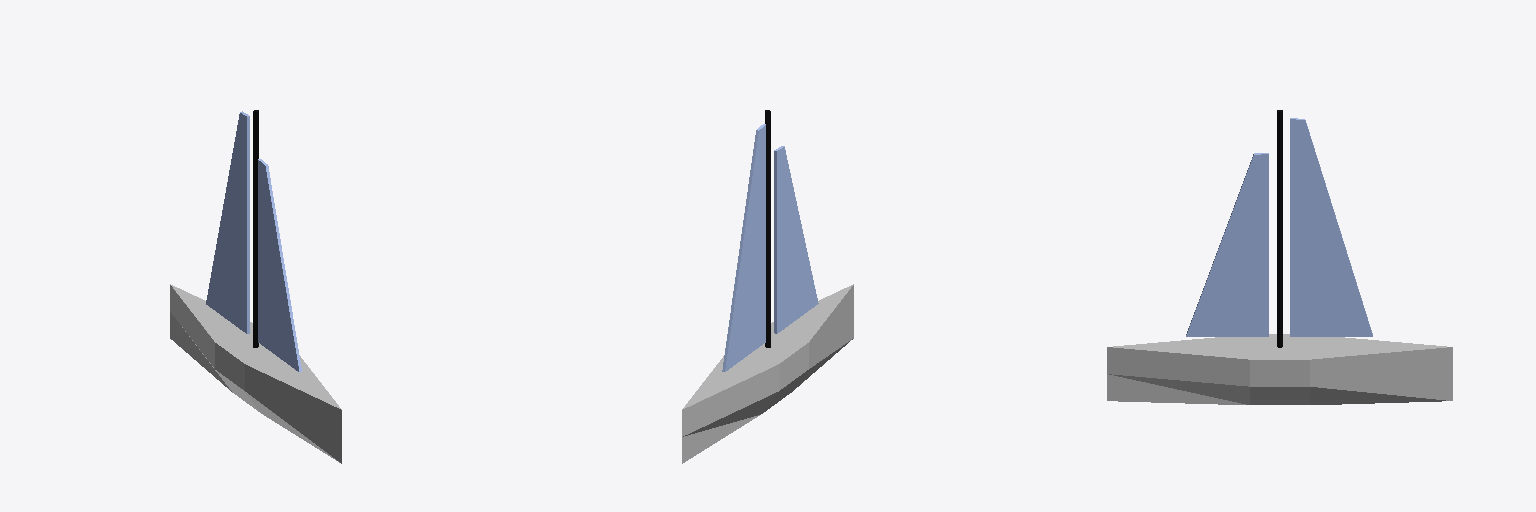
Rendered from ship0_lowres.obj.
3 views of the same model, side by side, from view 1: azimuth 30°, elevation 25°; view 2: azimuth 150°, elevation 25°; view 3: azimuth 270°, elevation 25° (orthographic).
Parts seen in each view (by area): view 1: Cube, Cube.001, Cube.002, Cylinder; view 2: Cube, Cube.001, Cube.002, Cylinder; view 3: Cube, Cube.001, Cube.002, Cylinder.
Boxes of the visible parts, <box> form: Cube: <box>170,284,341,463</box>; Cube.001: <box>206,111,249,333</box>; Cube.002: <box>258,159,301,372</box>; Cylinder: <box>253,110,258,347</box>; Cube: <box>682,284,853,463</box>; Cube.001: <box>722,124,765,371</box>; Cube.002: <box>774,146,818,333</box>; Cylinder: <box>765,110,770,347</box>; Cube: <box>1107,334,1452,404</box>; Cube.001: <box>1290,118,1372,336</box>; Cube.002: <box>1186,153,1268,336</box>; Cylinder: <box>1277,110,1282,347</box>.
Bounding box in the file's own units: 2 × 10.72 × 11.56.